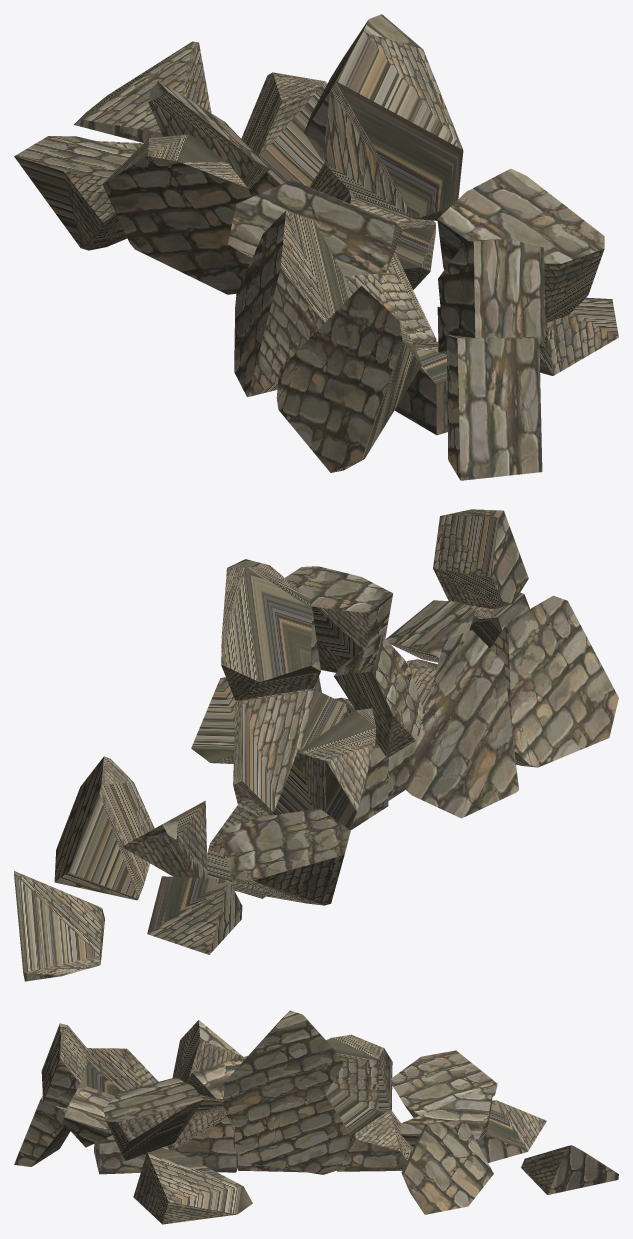
File: BreakWallSmall_000010.obj
3 renders of one model, top to bottom at view 1: azimuth 30°, elevation 25°; view 2: azimuth 150°, elevation 25°; view 3: azimuth 270°, elevation 25°, orthographic. The views are drawn at different scales.
Parts seen in each view (by area): view 1: Cube.002_cell.003_Cube.002_cell.002, Cube.002_cell.013_Cube.002_cell.012, Cube.002_cell.012_Cube.002_cell.011, Cube.002_cell.017_Cube.002_cell.016, Cube.002_cell.002_Cube.002_cell.001, Cube.002_cell.004_Cube.002_cell.003, Cube.002_cell.007_Cube.002_cell.006, Cube.002_cell.009_Cube.002_cell.008, Cube.002_cell.010_Cube.002_cell.009, Cube.002_cell.014_Cube.002_cell.013, Cube.002_cell.005_Cube.002_cell.004, Cube.002_cell.001_Cube.002_cell.000 (+4 smaller); view 2: Cube.002_cell.017_Cube.002_cell.016, Cube.002_cell.013_Cube.002_cell.012, Cube.002_cell.003_Cube.002_cell.002, Cube.002_cell.010_Cube.002_cell.009, Cube.002_cell.014_Cube.002_cell.013, Cube.002_cell.015_Cube.002_cell.014, Cube.002_cell.007_Cube.002_cell.006, Cube.002_cell.005_Cube.002_cell.004, Cube.002_cell.012_Cube.002_cell.011, Cube.002_cell.004_Cube.002_cell.003, Cube.002_cell.009_Cube.002_cell.008, Cube.002_cell.018_Cube.002_cell.017 (+8 smaller); view 3: Cube.002_cell.003_Cube.002_cell.002, Cube.002_cell.015_Cube.002_cell.014, Cube.002_cell.014_Cube.002_cell.013, Cube.002_cell.016_Cube.002_cell.015, Cube.002_cell.004_Cube.002_cell.003, Cube.002_cell.012_Cube.002_cell.011, Cube.002_cell.010_Cube.002_cell.009, Cube.002_cell.005_Cube.002_cell.004, Cube.002_cell_Cube.002_cell.020, Cube.002_cell.008_Cube.002_cell.007, Cube.002_cell.007_Cube.002_cell.006, Cube.002_cell.018_Cube.002_cell.017 (+8 smaller).
Part boxes in pixels (left/top/right/bottom): Cube.002_cell.003_Cube.002_cell.002: left=304, top=14, right=463, bottom=220; Cube.002_cell.013_Cube.002_cell.012: left=276, top=285, right=421, bottom=472; Cube.002_cell.012_Cube.002_cell.011: left=102, top=134, right=252, bottom=294; Cube.002_cell.017_Cube.002_cell.016: left=234, top=210, right=350, bottom=396; Cube.002_cell.002_Cube.002_cell.001: left=446, top=335, right=542, bottom=480; Cube.002_cell.004_Cube.002_cell.003: left=437, top=168, right=604, bottom=322; Cube.002_cell.007_Cube.002_cell.006: left=438, top=239, right=545, bottom=337; Cube.002_cell.009_Cube.002_cell.008: left=227, top=180, right=402, bottom=276; Cube.002_cell.010_Cube.002_cell.009: left=14, top=136, right=136, bottom=250; Cube.002_cell.014_Cube.002_cell.013: left=241, top=72, right=327, bottom=196; Cube.002_cell.005_Cube.002_cell.004: left=73, top=41, right=211, bottom=142; Cube.002_cell.001_Cube.002_cell.000: left=148, top=81, right=270, bottom=188; Cube.002_cell.017_Cube.002_cell.016: left=404, top=630, right=518, bottom=818; Cube.002_cell.013_Cube.002_cell.012: left=490, top=595, right=618, bottom=767; Cube.002_cell.003_Cube.002_cell.002: left=221, top=559, right=320, bottom=700; Cube.002_cell.010_Cube.002_cell.009: left=220, top=808, right=350, bottom=905; Cube.002_cell.014_Cube.002_cell.013: left=54, top=756, right=154, bottom=900; Cube.002_cell.015_Cube.002_cell.014: left=233, top=688, right=347, bottom=815; Cube.002_cell.007_Cube.002_cell.006: left=433, top=509, right=528, bottom=609; Cube.002_cell.005_Cube.002_cell.004: left=14, top=871, right=104, bottom=981; Cube.002_cell.012_Cube.002_cell.011: left=273, top=708, right=376, bottom=829; Cube.002_cell.004_Cube.002_cell.003: left=285, top=566, right=392, bottom=672; Cube.002_cell.009_Cube.002_cell.008: left=334, top=634, right=423, bottom=756; Cube.002_cell.018_Cube.002_cell.017: left=147, top=876, right=242, bottom=954; Cube.002_cell.003_Cube.002_cell.002: left=223, top=1010, right=343, bottom=1124; Cube.002_cell.015_Cube.002_cell.014: left=233, top=1094, right=350, bottom=1174; Cube.002_cell.014_Cube.002_cell.013: left=401, top=1120, right=493, bottom=1214; Cube.002_cell.016_Cube.002_cell.015: left=133, top=1150, right=252, bottom=1224; Cube.002_cell.004_Cube.002_cell.003: left=103, top=1077, right=202, bottom=1160; Cube.002_cell.012_Cube.002_cell.011: left=325, top=1035, right=392, bottom=1137; Cube.002_cell.010_Cube.002_cell.009: left=389, top=1050, right=497, bottom=1117; Cube.002_cell.005_Cube.002_cell.004: left=521, top=1145, right=618, bottom=1194; Cube.002_cell_Cube.002_cell.020: left=337, top=1109, right=413, bottom=1171; Cube.002_cell.008_Cube.002_cell.007: left=167, top=1105, right=237, bottom=1172; Cube.002_cell.007_Cube.002_cell.006: left=41, top=1023, right=90, bottom=1108; Cube.002_cell.018_Cube.002_cell.017: left=477, top=1100, right=546, bottom=1162.
Bounding box in the file's own units: 20.21 × 14.09 × 45.95.
2 materials, 2 textured.
